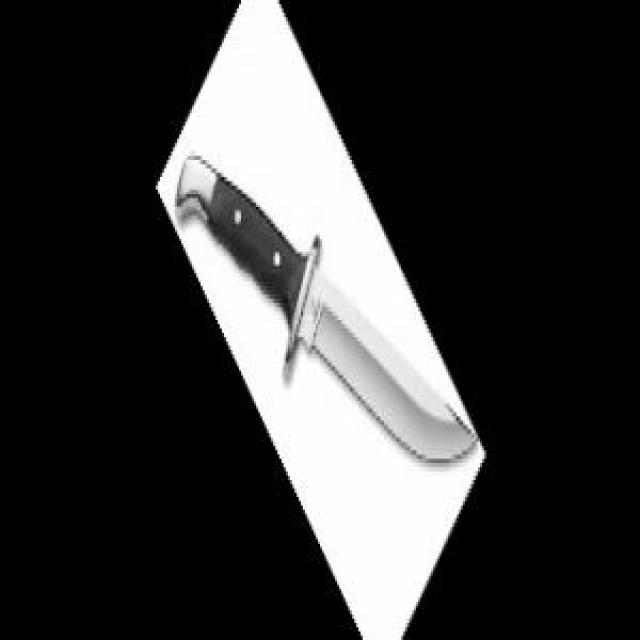knife: (177, 156, 480, 464)
